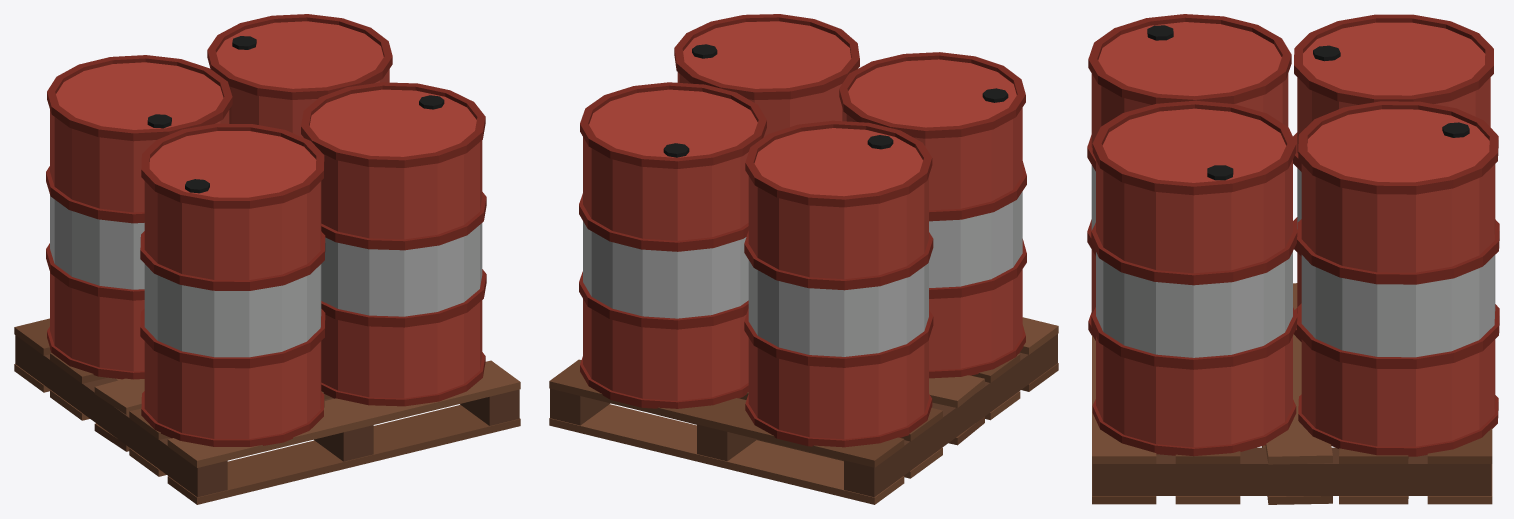
Rendered from SM_Props_Pallet_04.glb.
3 views of the same model, side by side, from view 1: azimuth 30°, elevation 25°; view 2: azimuth 150°, elevation 25°; view 3: azimuth 270°, elevation 25° (orthographic). The views are drawn at different scales.
Visible parts, largest first — view 1: SM_Props_Pallet_04; view 2: SM_Props_Pallet_04; view 3: SM_Props_Pallet_04.
Boxes of the visible parts, x1=… form: SM_Props_Pallet_04: x1=14, y1=14, x2=520, y2=504; SM_Props_Pallet_04: x1=549, y1=14, x2=1058, y2=504; SM_Props_Pallet_04: x1=1087, y1=14, x2=1499, y2=504.
Size of the model in its own units: 1.21 by 1.03 by 1.22.
1 material, 1 textured.
